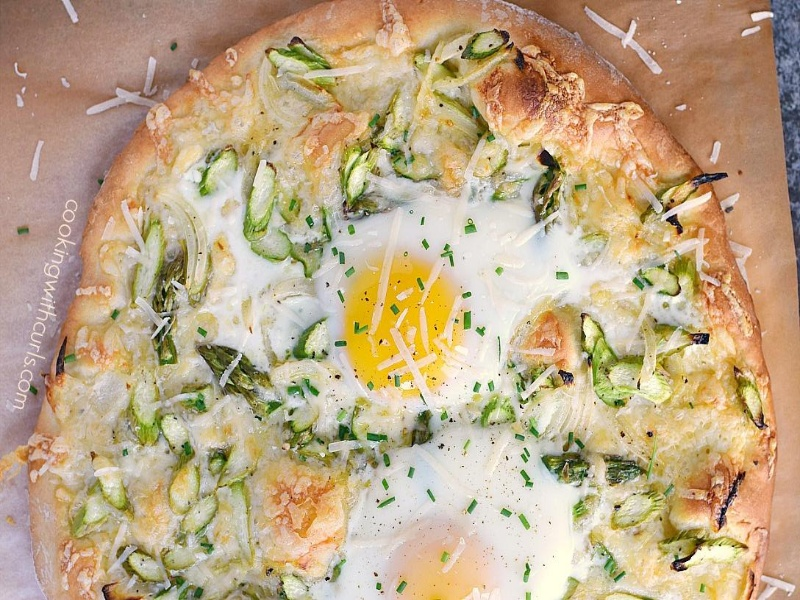oeuf: (328, 250, 485, 414)
